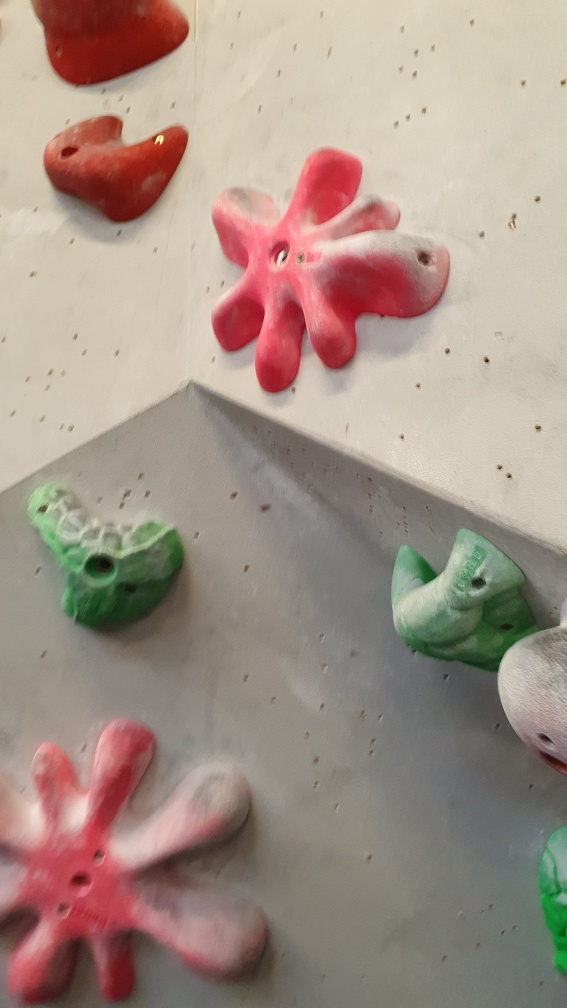Jug: (395, 532, 542, 681)
Octopus Pinch: (2, 720, 272, 1008), (208, 140, 459, 394)
Sloper: (497, 607, 567, 778)
